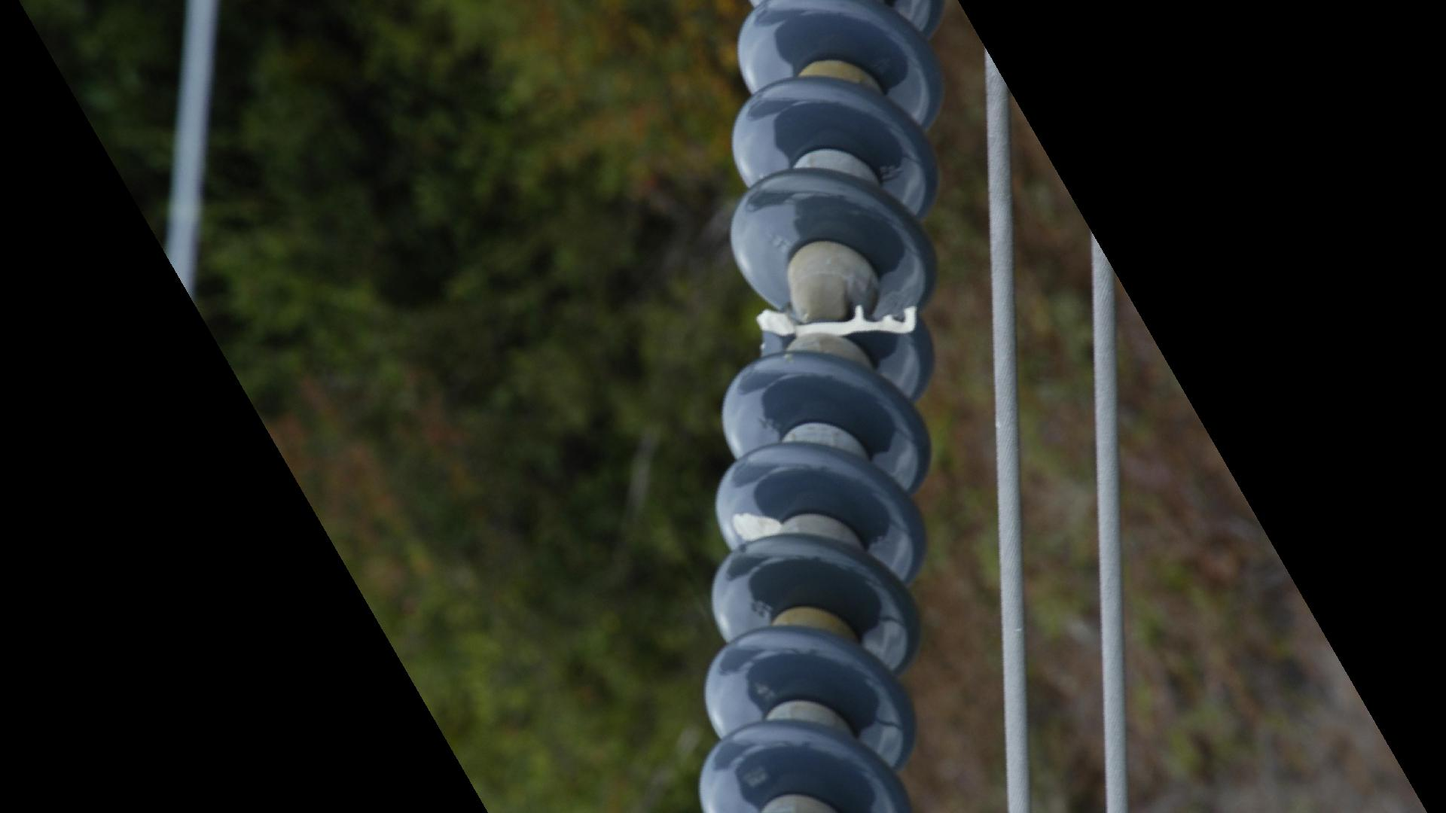insulator: (691, 1, 950, 813)
insulator_breakage: (742, 296, 926, 357)
